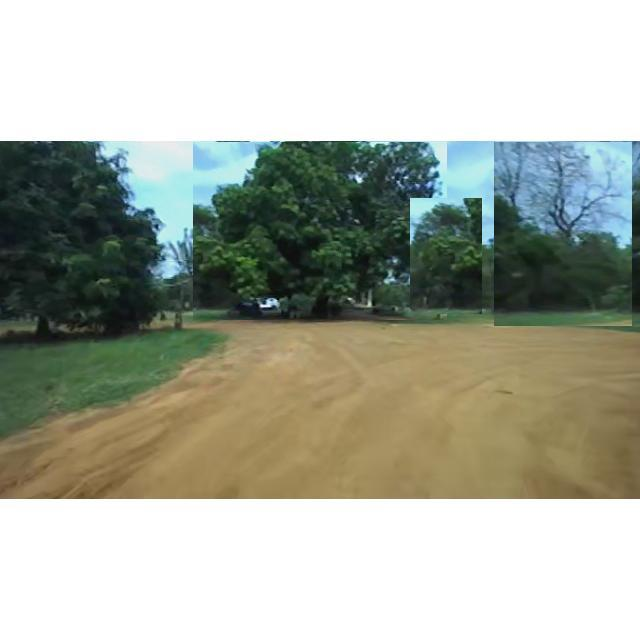direk: (193, 142, 447, 320), (0, 143, 158, 341), (493, 142, 632, 326), (410, 198, 482, 314), (490, 235, 590, 318), (145, 234, 213, 326)
